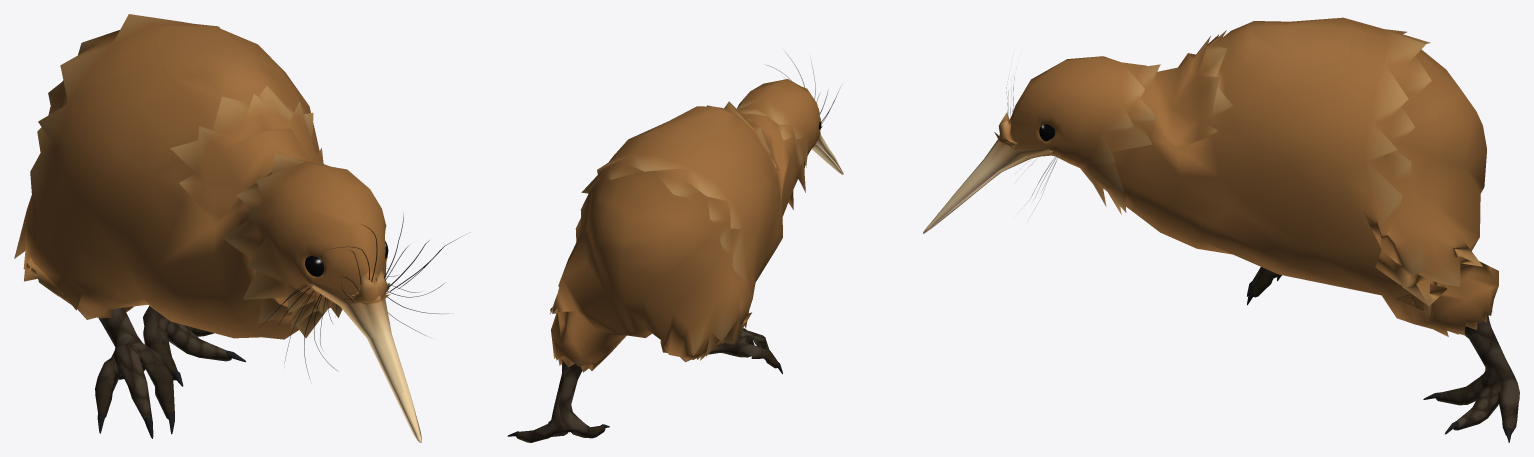
Rendered from sv_kiwi.glb.
3 views of the same model, side by side, from view 1: azimuth 30°, elevation 25°; view 2: azimuth 150°, elevation 25°; view 3: azimuth 270°, elevation 25° (orthographic). The views are drawn at different scales.
Parts seen in each view (by area): view 1: sv_kiwi; view 2: sv_kiwi; view 3: sv_kiwi.
Part boxes in pixels (bbox=[...]): sv_kiwi: bbox=[14, 14, 462, 442]; sv_kiwi: bbox=[507, 53, 843, 442]; sv_kiwi: bbox=[923, 17, 1519, 442].
Size of the model in its own units: 0.3992 by 0.5625 by 0.8695.
3 materials, 3 textured.
